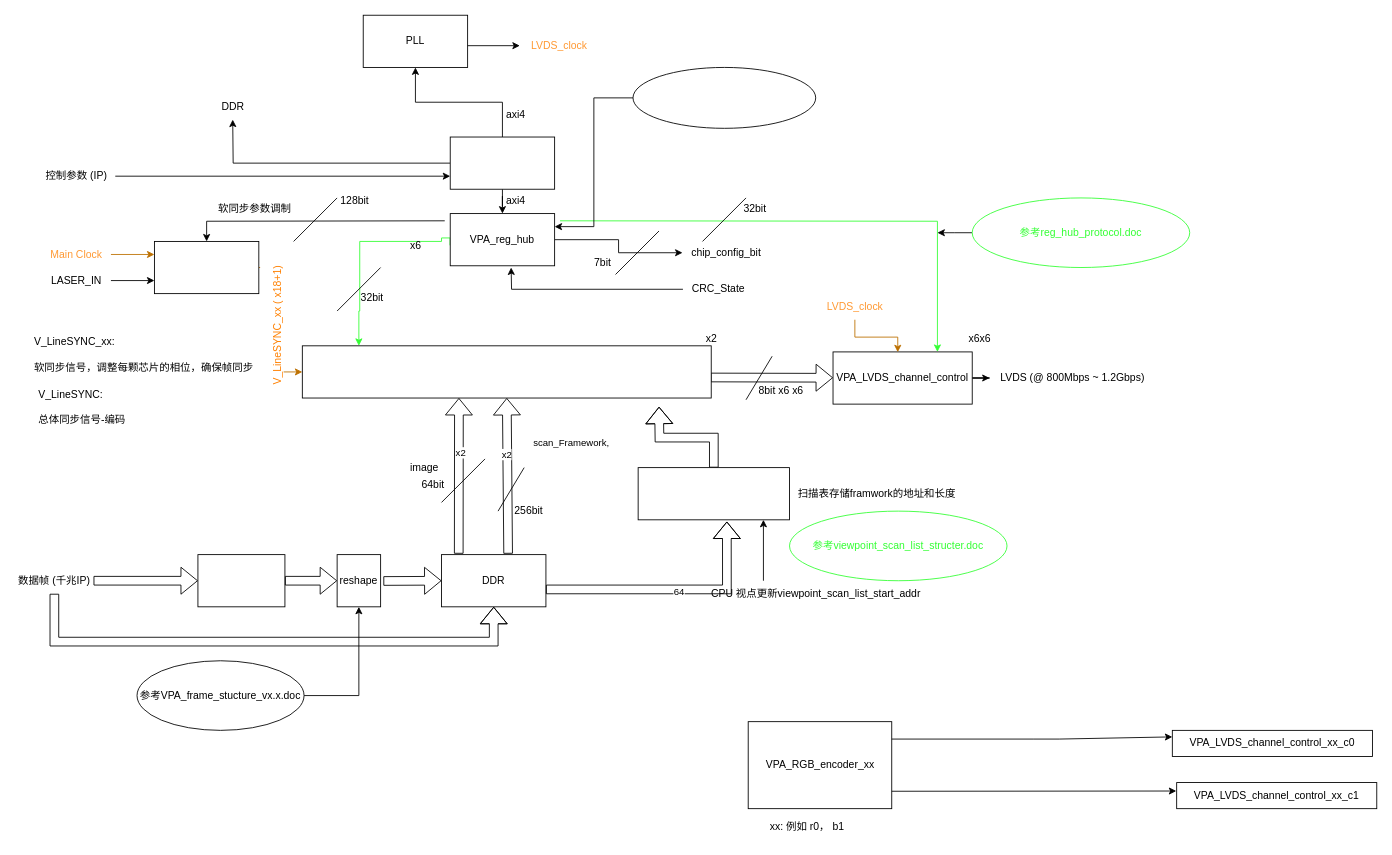
Some shapes in this 1392 by 855 pixel diagram are drawn without their labels. Here are the shapes that lost their labels. From the top down, the centre of each, then its label:
At (724,97): "参考VPA_Control_Scheme_vx.x.doc +Gamma ，视函数表".
At (502,162): "CPU".
At (206,267): "laser_sync_controller".
At (506,371): "VPA_RGB_encoder".
At (713,493): "viewpoint_scan_list_buff".
At (241,580): "Jpeg_Decoder".
